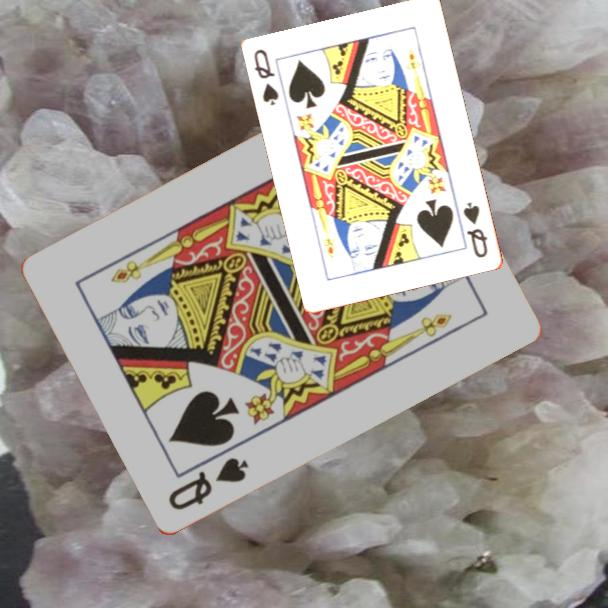s12: (164, 454, 252, 514), (251, 46, 282, 109), (460, 199, 491, 261)
